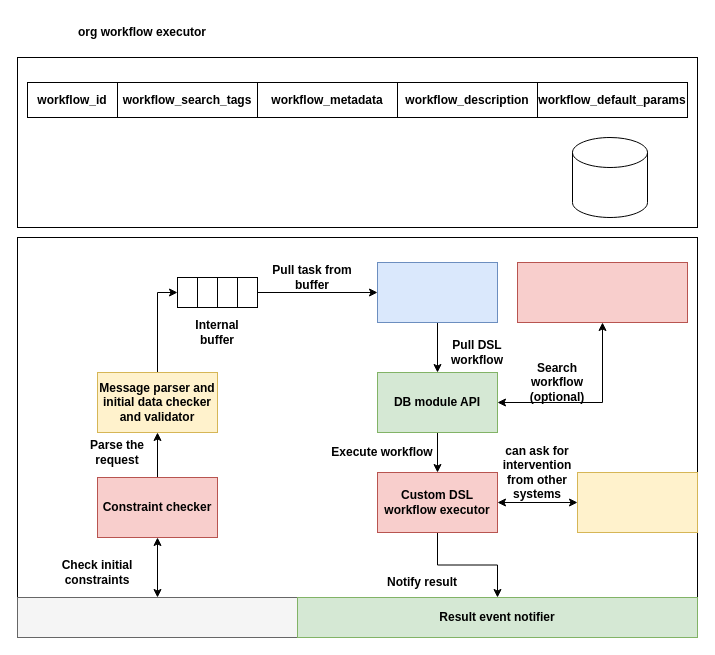
Some shapes in this 715 by 655 pixel diagram are drawn without their labels. The shapes that lost their labels are listed below. From the top down, each one's centre as x and y in pixels, then its label:
At [610,177]: "Org workflows".
At [437,292]: "Org custom DSL workflow executor".
At [602,292]: "Workflow search - plan + retrieve system".
At [637,502]: "Subject intervention system".
At [157,617]: "Org workflows executor".
